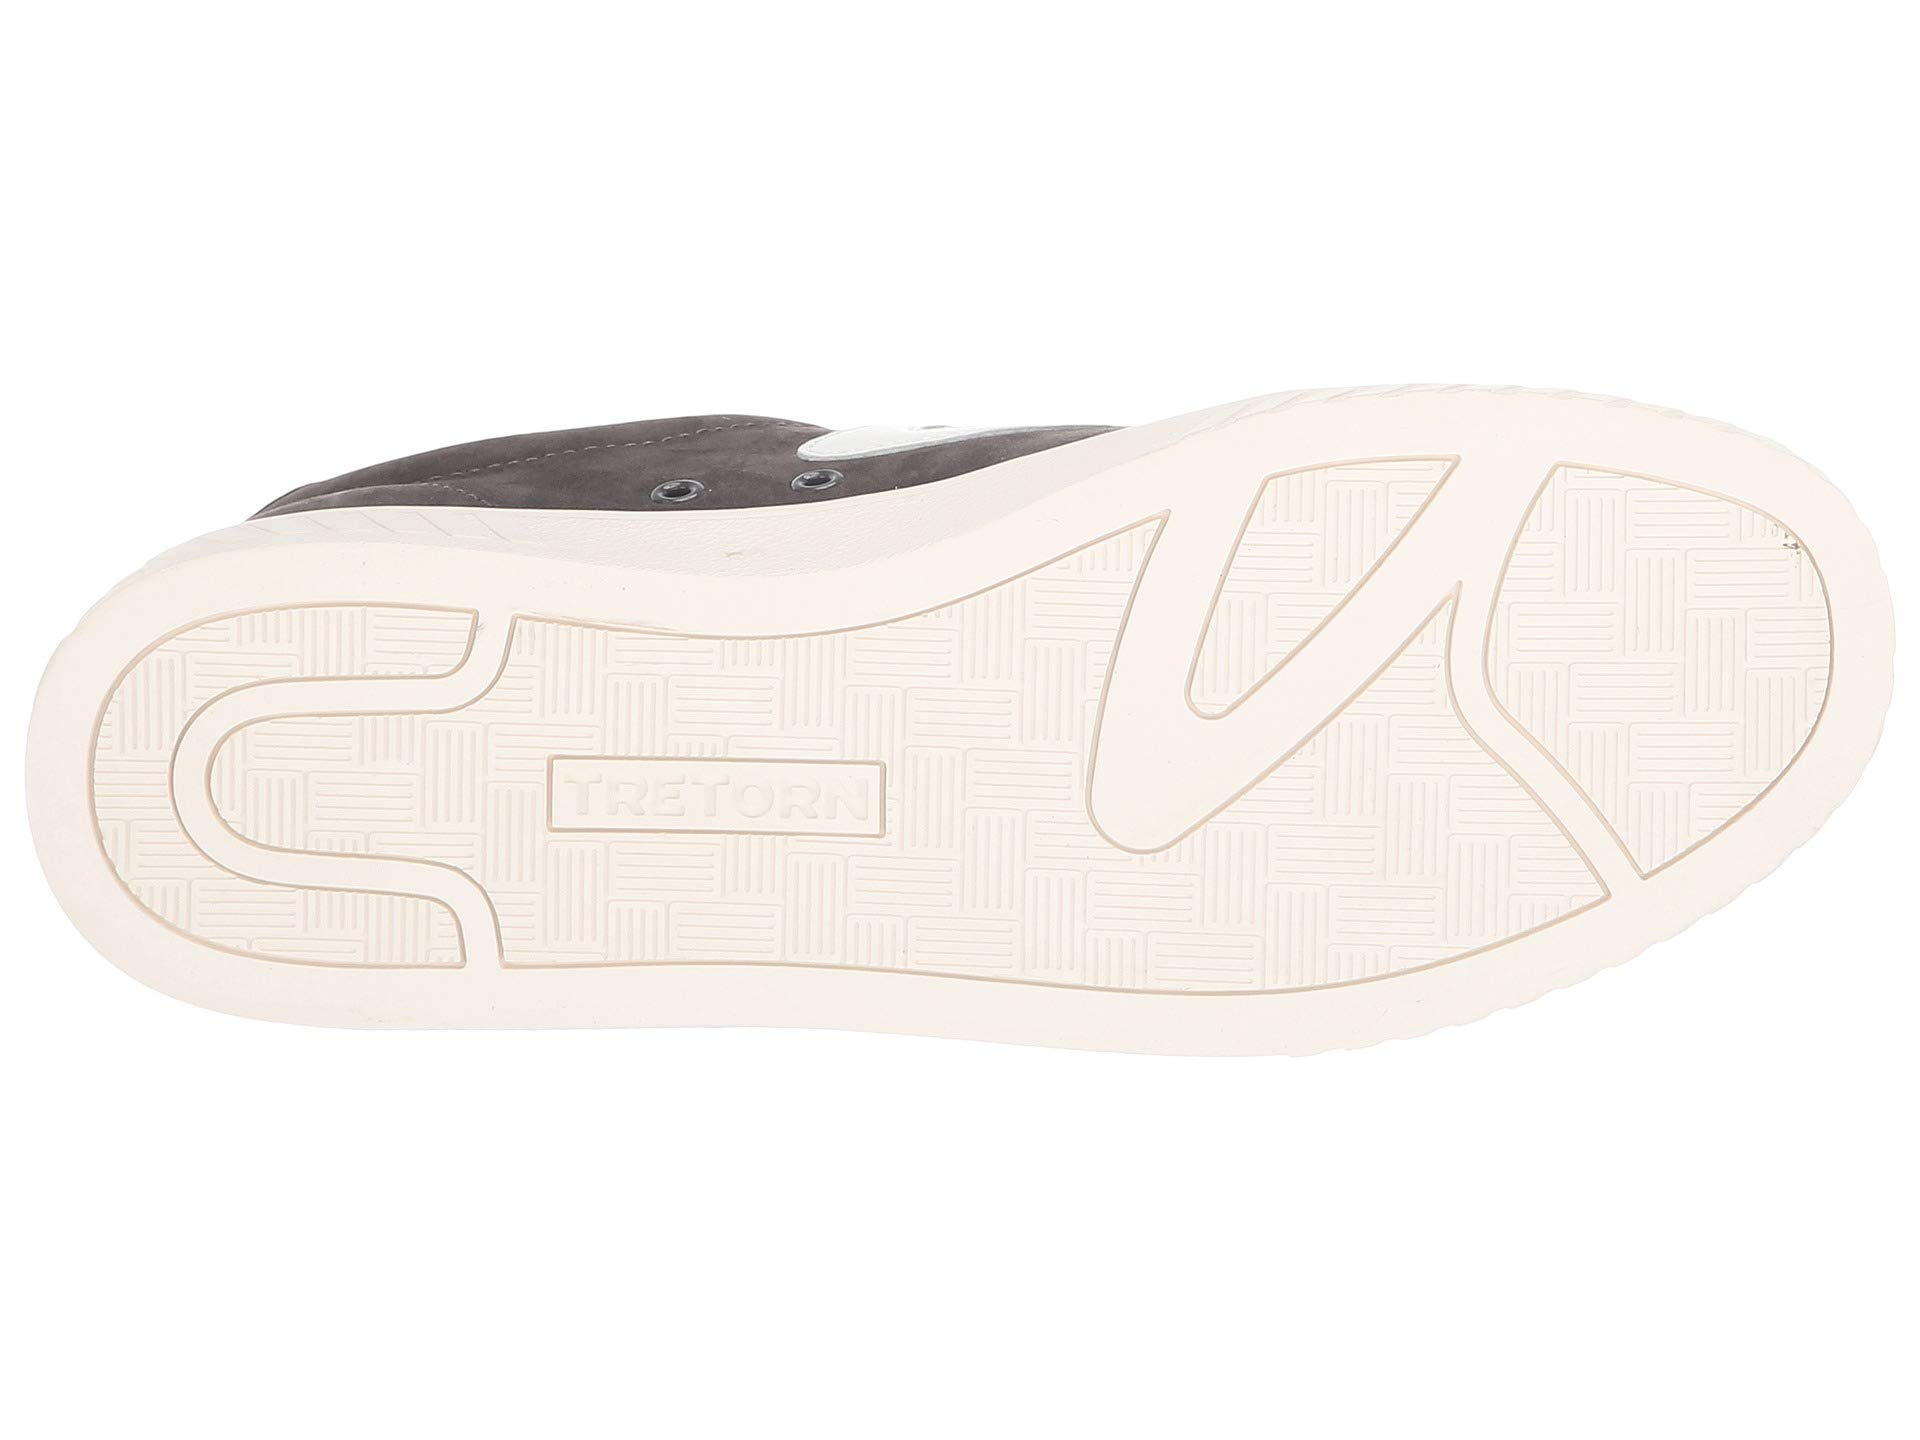chevron: (1034, 650, 1308, 883)
circle: (540, 749, 895, 852)
exclude: (27, 169, 1539, 597)
line: (1034, 650, 1308, 883), (1528, 526, 1770, 755), (1315, 781, 1525, 985), (878, 663, 1023, 790)
quad: (1528, 526, 1770, 755), (1315, 781, 1525, 985), (540, 749, 895, 852), (878, 663, 1023, 790)
text: (540, 749, 895, 852)
